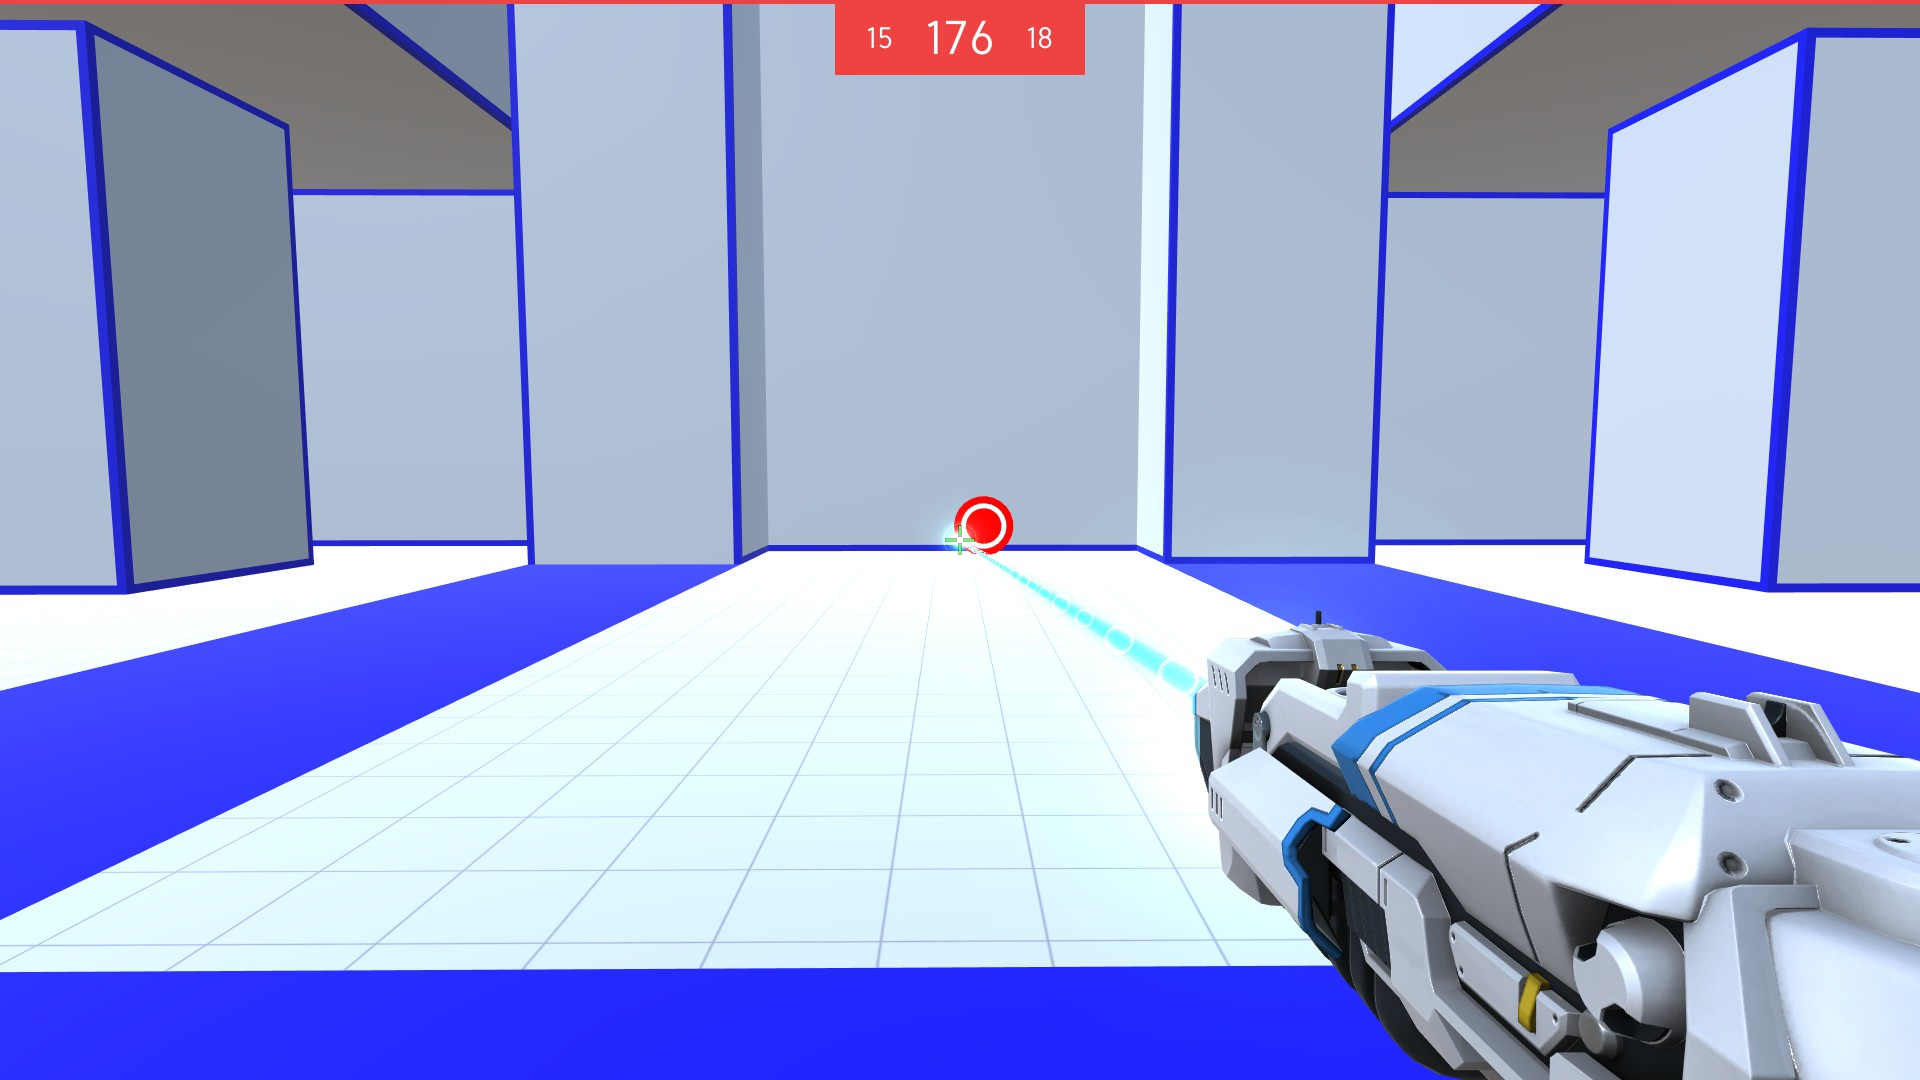target: (952, 495, 1015, 556)
